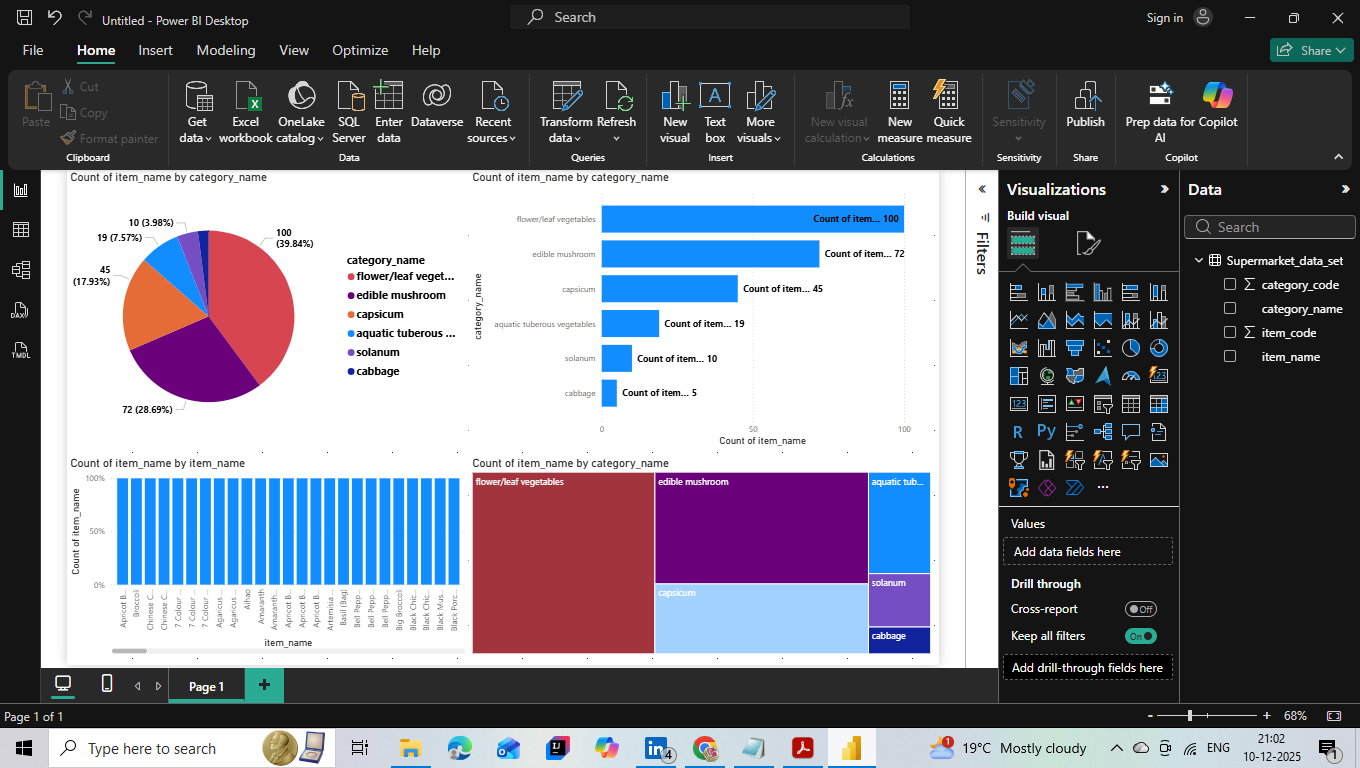

What the dashboard file says about the page in this screenshot:
{"tool":"powerbi","page":{"name":"Dashboard","canvas":[1287,731],"ordinal":0},"visuals":[{"type":"pieChart","fields":{"Category":["Supermarket_data_set.category_name"],"Y":["CountNonNull(Supermarket_data_set.item_name)"]},"box":[0,0,593.3,413.3],"z":0},{"type":"clusteredBarChart","fields":{"Category":["Supermarket_data_set.category_name"],"Y":["CountNonNull(Supermarket_data_set.item_name)"]},"box":[593.3,0,686.7,413.3],"z":1000},{"type":"hundredPercentStackedColumnChart","fields":{"Category":["Supermarket_data_set.item_name"],"Y":["CountNonNull(Supermarket_data_set.item_name)"]},"box":[0,423,593,297],"z":2000},{"type":"treemap","fields":{"Group":["Supermarket_data_set.category_name"],"Values":["CountNonNull(Supermarket_data_set.item_name)"]},"box":[593.3,423,686.7,297],"z":3000}]}

Visuals, with their boxes on the page's 1287x731 design canvas (x1, y1, x2, y2). These are canvas units, not pixel positions in the 1360x768 screenshot, which may show the page scaled, cropped or inside an application window:
pieChart - Supermarket_data_set.category_name x CountNonNull(Supermarket_data_set.item_name): {"left": 0, "top": 0, "right": 593, "bottom": 413}
clusteredBarChart - Supermarket_data_set.category_name x CountNonNull(Supermarket_data_set.item_name): {"left": 593, "top": 0, "right": 1280, "bottom": 413}
hundredPercentStackedColumnChart - Supermarket_data_set.item_name x CountNonNull(Supermarket_data_set.item_name): {"left": 0, "top": 423, "right": 593, "bottom": 720}
treemap - Supermarket_data_set.category_name x CountNonNull(Supermarket_data_set.item_name): {"left": 593, "top": 423, "right": 1280, "bottom": 720}
